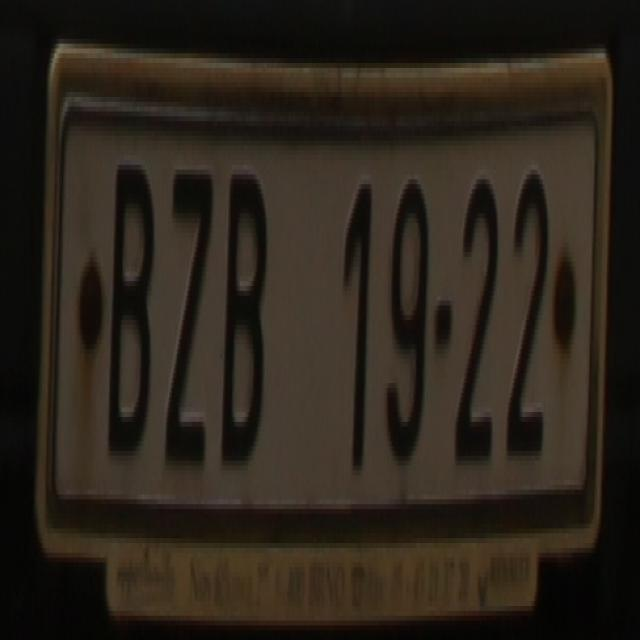1: (338, 170, 372, 480)
2: (450, 165, 498, 480), (504, 160, 550, 480)
9: (384, 174, 428, 460)
B: (220, 160, 268, 456), (104, 160, 152, 446)
Z: (166, 160, 212, 470)
